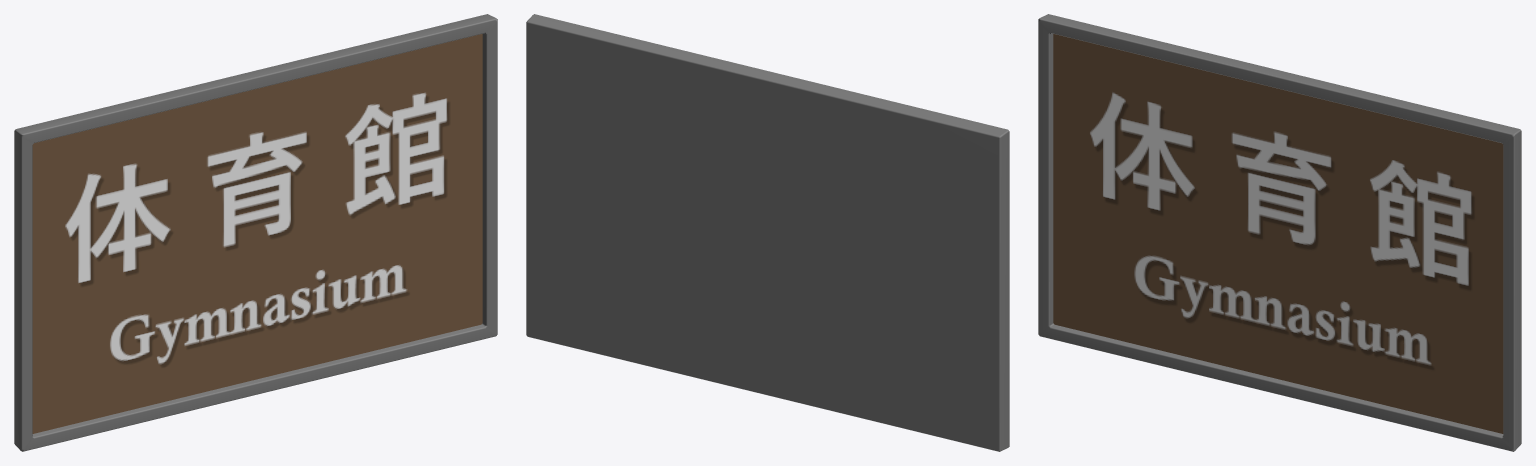
Rendered from SM_sign_gymnasium.fbx.
3 views of the same model, side by side, from view 1: azimuth 30°, elevation 25°; view 2: azimuth 150°, elevation 25°; view 3: azimuth 330°, elevation 25° (orthographic).
Parts seen in each view (by area): view 1: sign_roomname02; view 2: sign_roomname02; view 3: sign_roomname02.
Boxes of the visible parts, box(x1,y1,x2,y2) form: sign_roomname02: box(14, 14, 497, 451); sign_roomname02: box(526, 14, 1009, 451); sign_roomname02: box(1038, 14, 1521, 451).
Size of the model in its own units: 34.09 by 21.74 by 1.13.
Materials: 2 (1 with a texture image).
